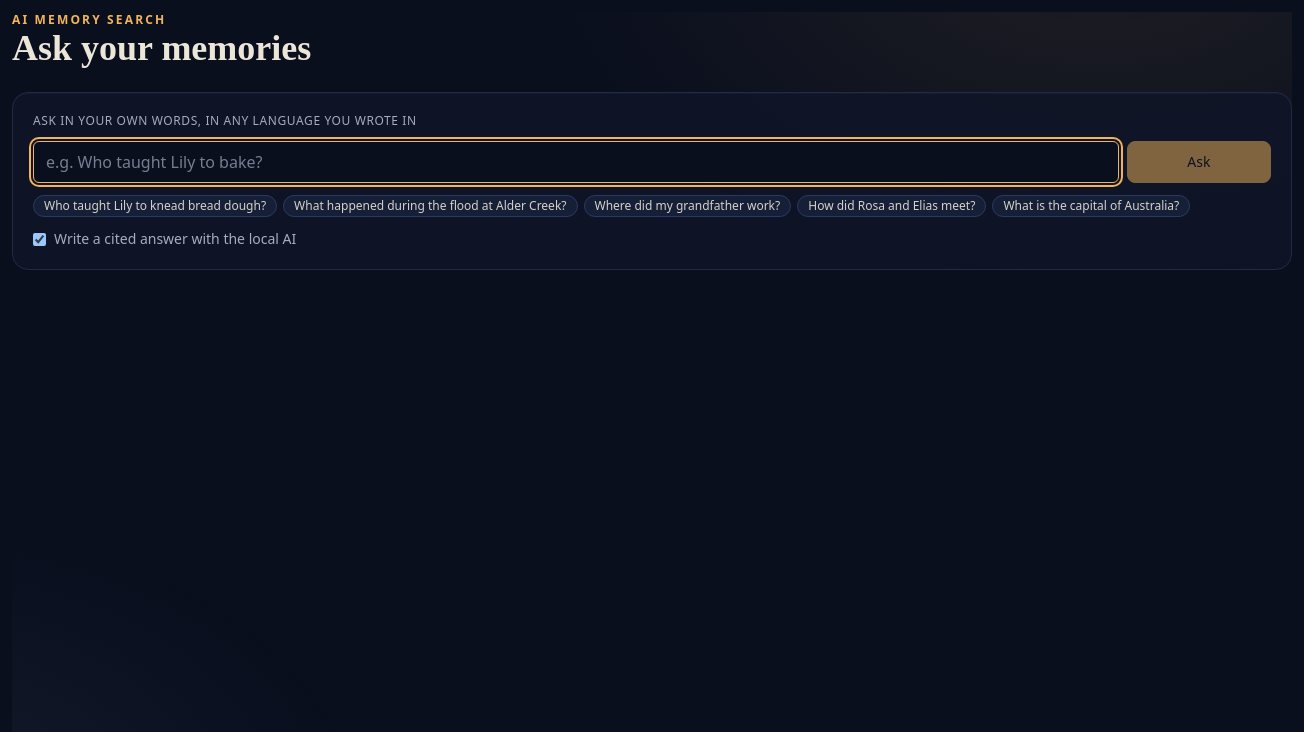
Test: Ask page › shows the exact not-found sentence when the backend finds no evidence
Type "capital of Australia" into the field labelled "Ask in your own words, in any language you wrote in" at {"x": 576, "y": 162}, box [33,141,1119,183]
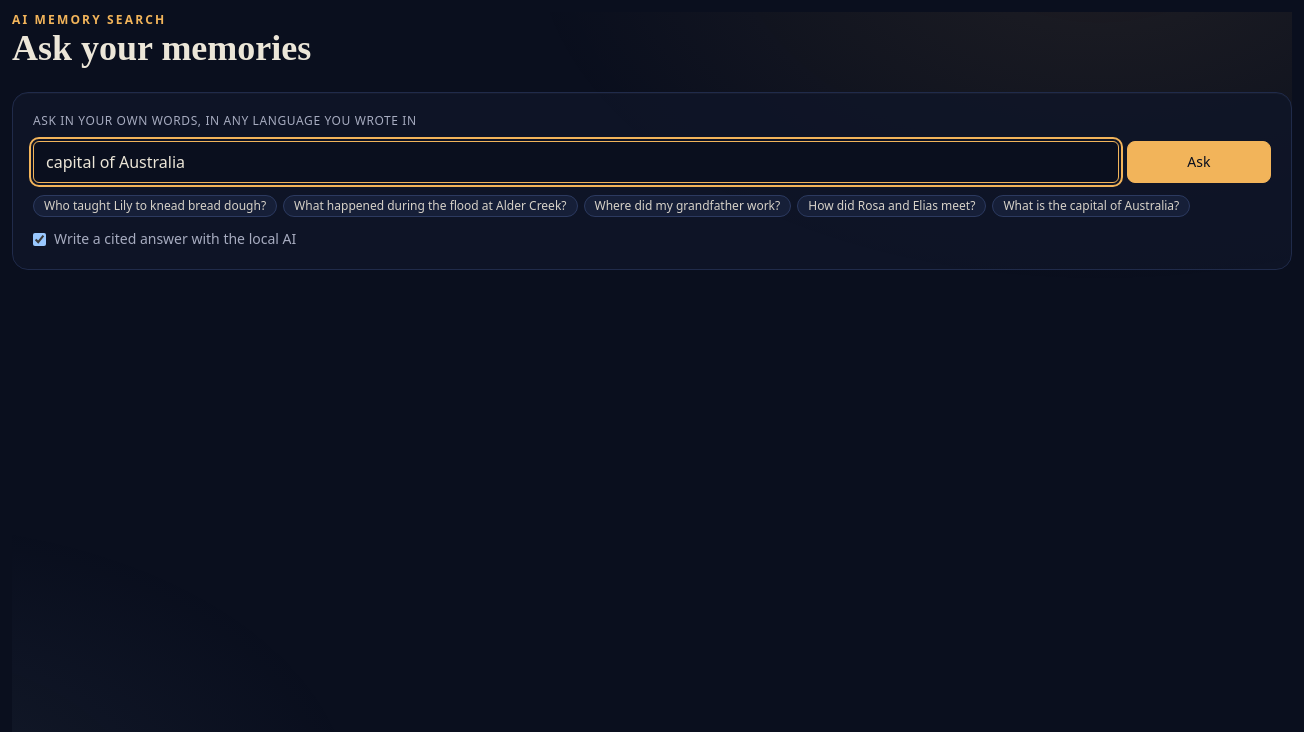
Click the button "Ask" at {"x": 1199, "y": 162}, box [1127,141,1271,183]
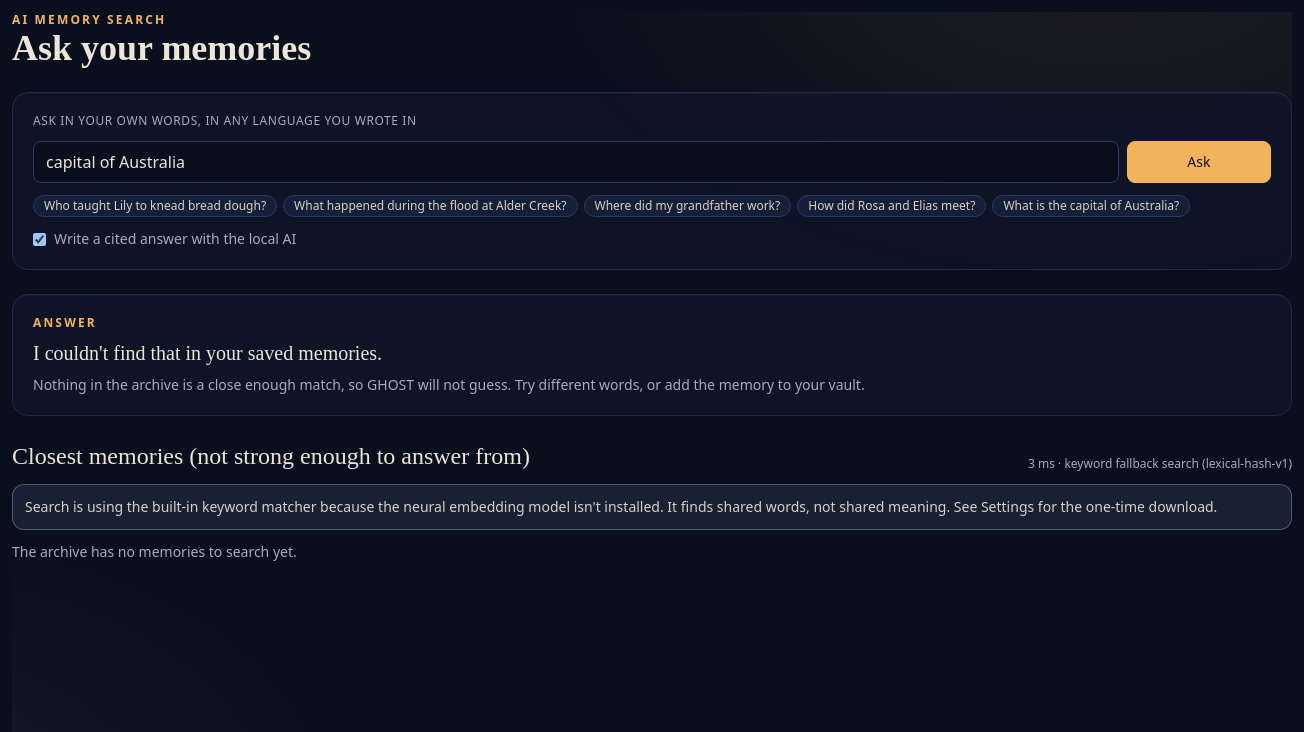
Expected: the text "I couldn't find that in your saved memories." is shown, [33,342,382,364]
